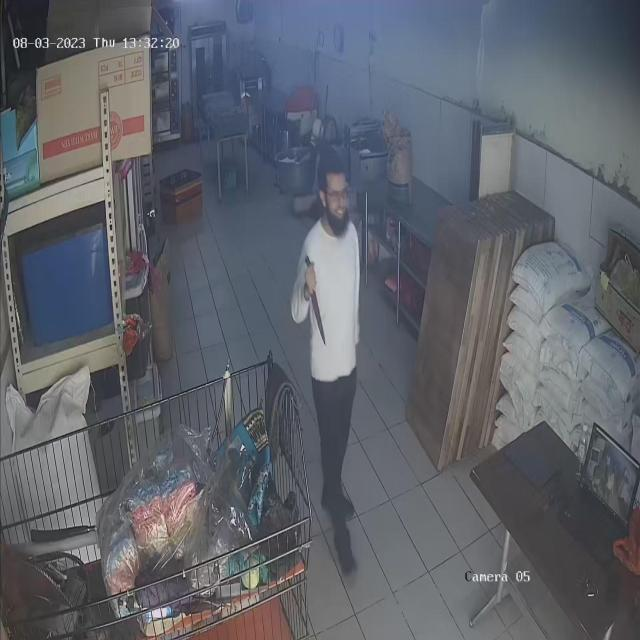Knife: (298, 250, 332, 352)
